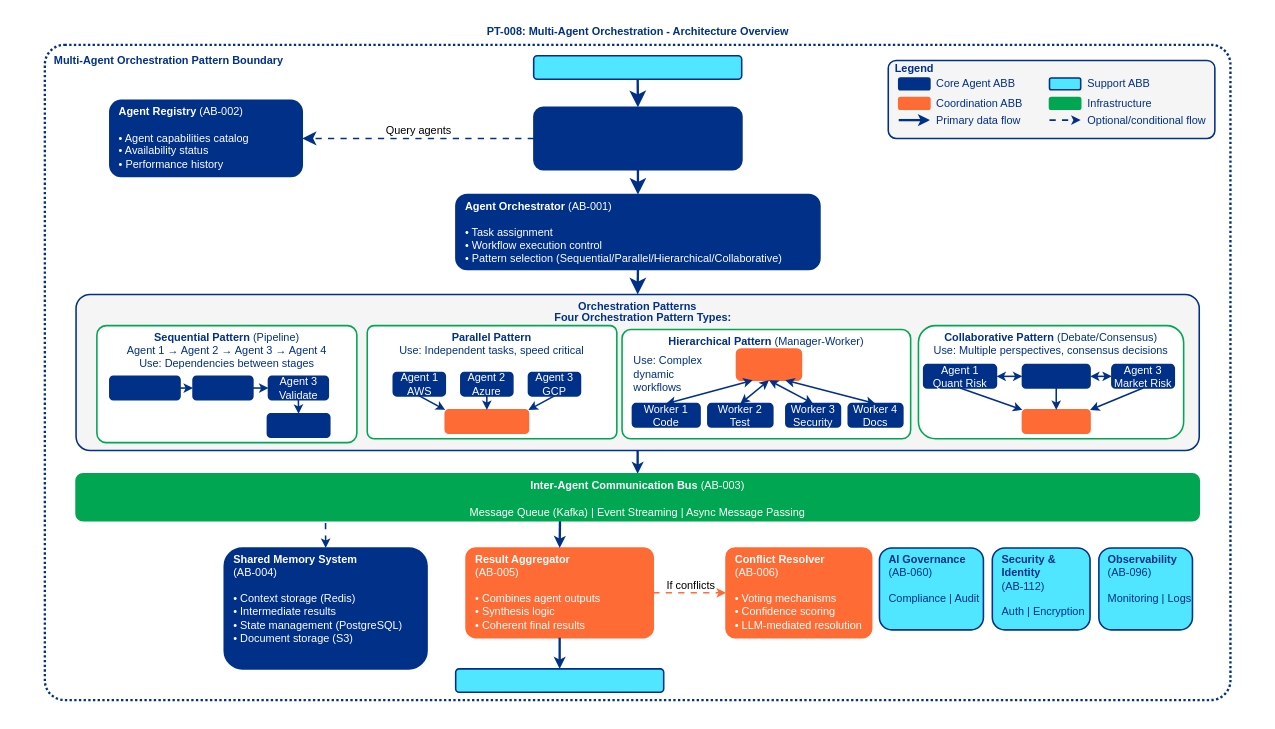
Image size: 1275x729. Some labels were removed from this diagram. The shapes that lost their labels are listed below. From the top down, each one's centre as x and y in pixels, then its label:
point 637,67: User Request / Complex Task
point 637,138: Task Decomposer (AB-007) Breaks complex tasks into agent-assignable subtasks
point 768,364: Manager Agent
point 1055,375: Agent 2 Qual Risk
point 144,387: Agent 1 Research
point 222,387: Agent 2 Analysis
point 298,425: Agent 4 Report
point 486,421: Result Aggregator
point 1055,421: Consensus Engine
point 559,680: Final Aggregated Output
